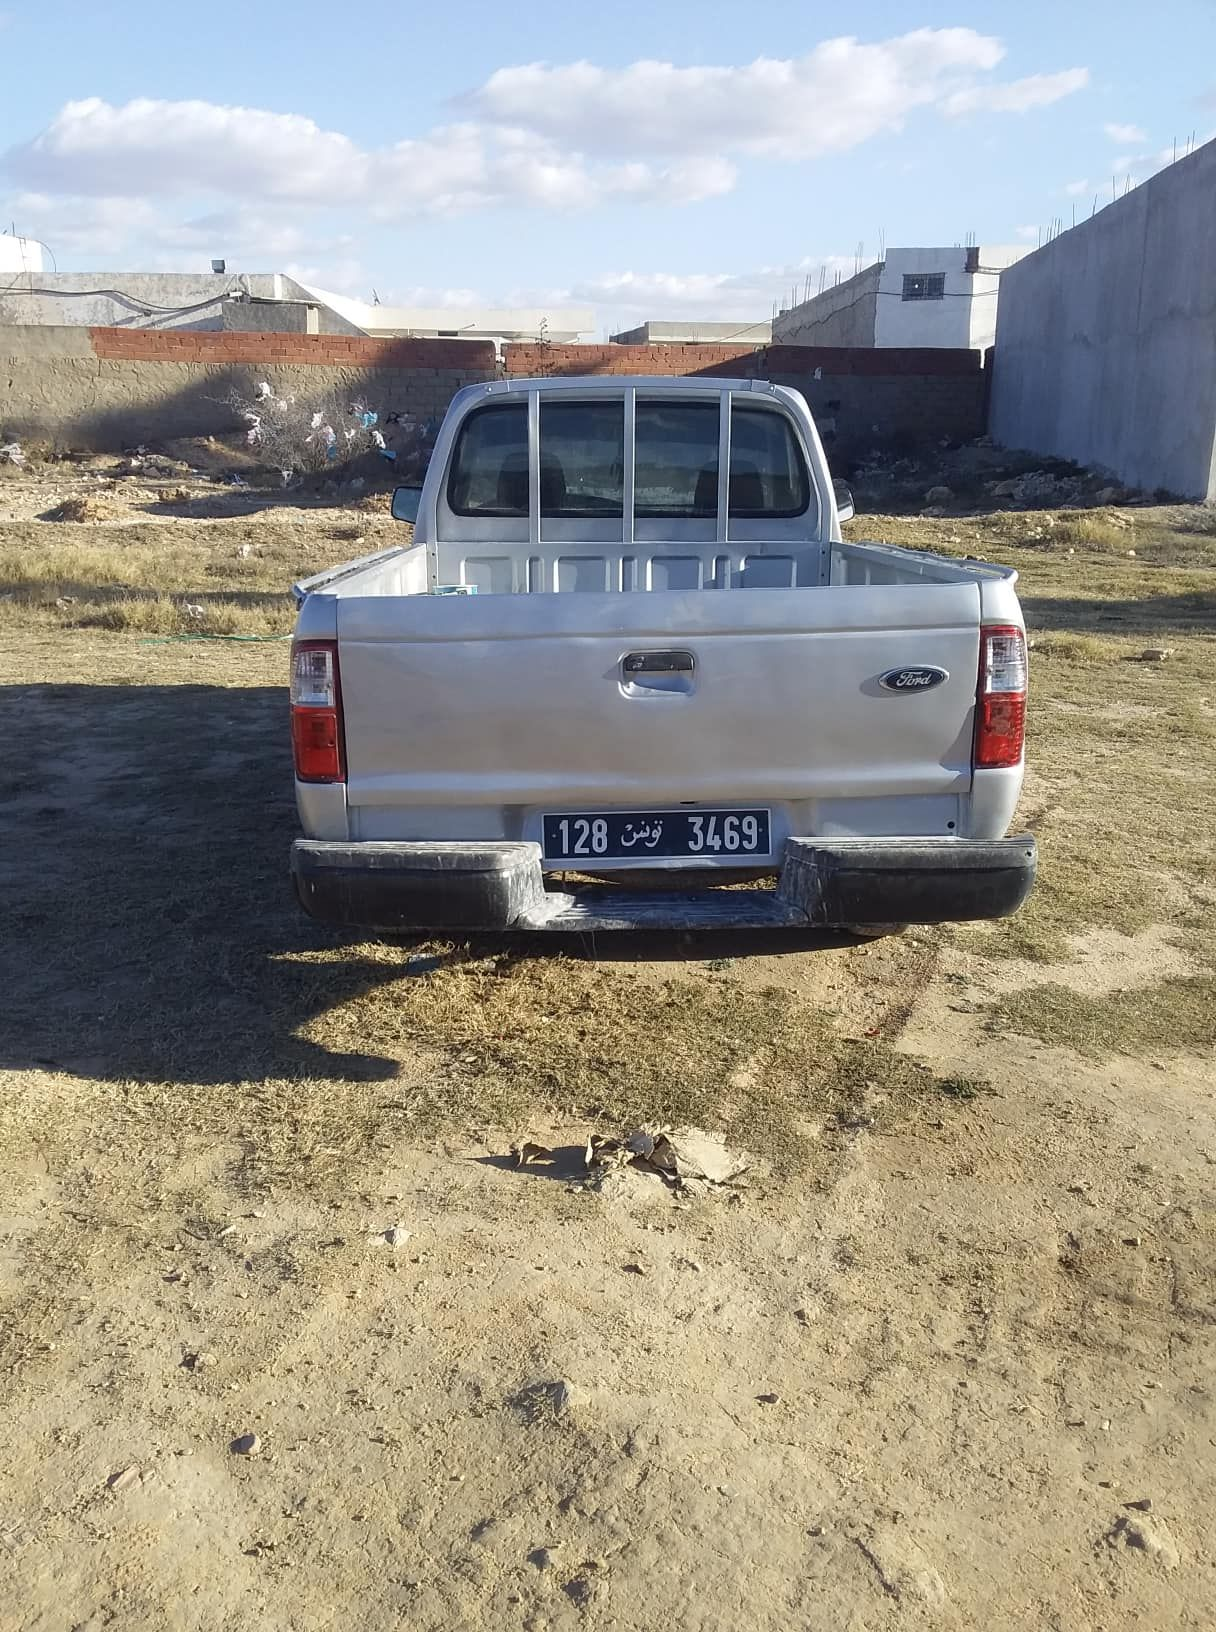LP: (536, 804, 778, 863)
